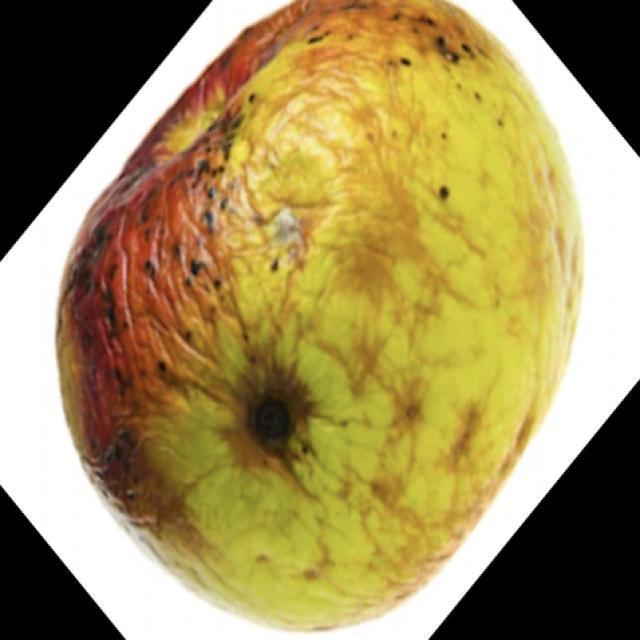Rotten: (71, 9, 586, 614)
